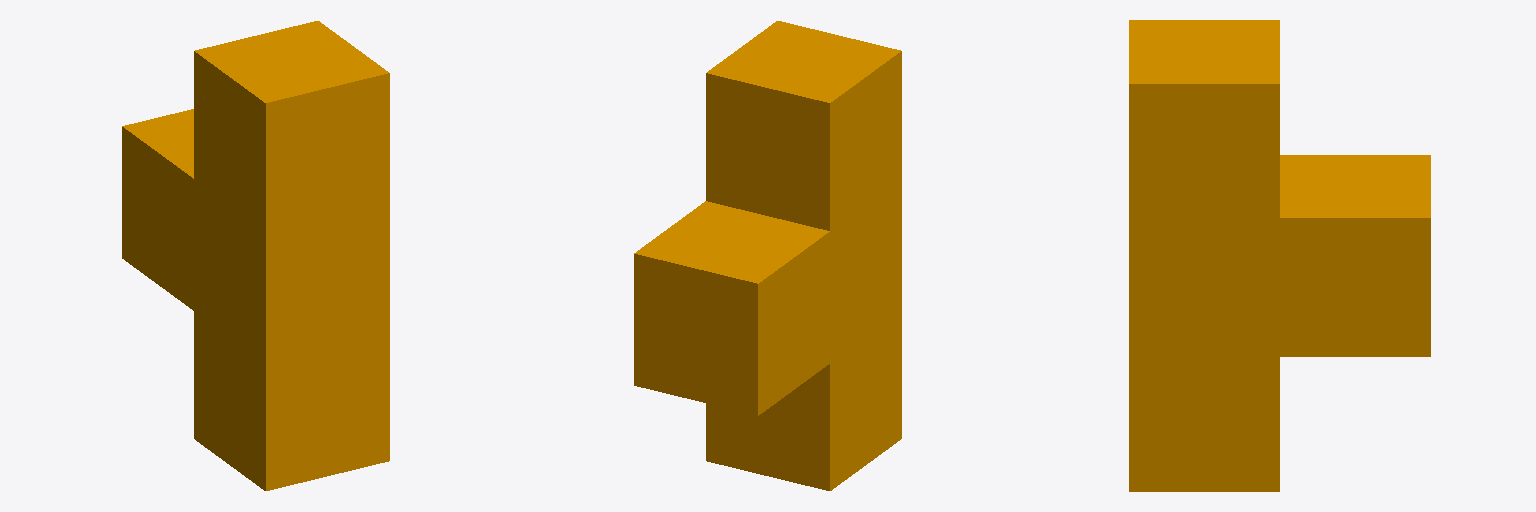
URDF robot description (2_3T_3):
<robot name="2_3T_3">
  <link name="link">
    <visual>
      <geometry>
        <mesh filename="2_3T_3.obj" scale="1 1 1"/>
      </geometry>
    </visual>
    <collision>
      <geometry>
        <mesh filename="2_3T_3.obj" scale="1 1 1"/>
      </geometry>
    </collision>
    <inertial>
      <mass value="1"/>
      <inertia ixx="1" iyy="1" izz="1" ixy="0" ixz="0" iyz="0"/>
      <origin xyz="0 0 0" rpy="0 0 0"/>
    </inertial>
  </link>
</robot>

--- What the picture shows (computed from the rendered views, not written in the file) ---
The picture shows the robot from 3 angles, left to right: view 1: azimuth 30°, elevation 25°; view 2: azimuth 150°, elevation 25°; view 3: azimuth 270°, elevation 25°; orthographic projection.
Robot: 2_3T_3 — 1 links, 0 joints (none); root link link; default pose: every joint at zero.
Links seen in each view (by area): view 1: link; view 2: link; view 3: link.
Link boxes in pixels (left/top/right/bottom): link: left=122, top=21, right=389, bottom=490; link: left=634, top=21, right=901, bottom=490; link: left=1129, top=20, right=1430, bottom=491.
Size in the robot's own frame: 0.0592 by 0.1184 by 0.1767 metres.
Meshes: 1 distinct files referenced, 1 mesh visuals loaded (1 OBJ).